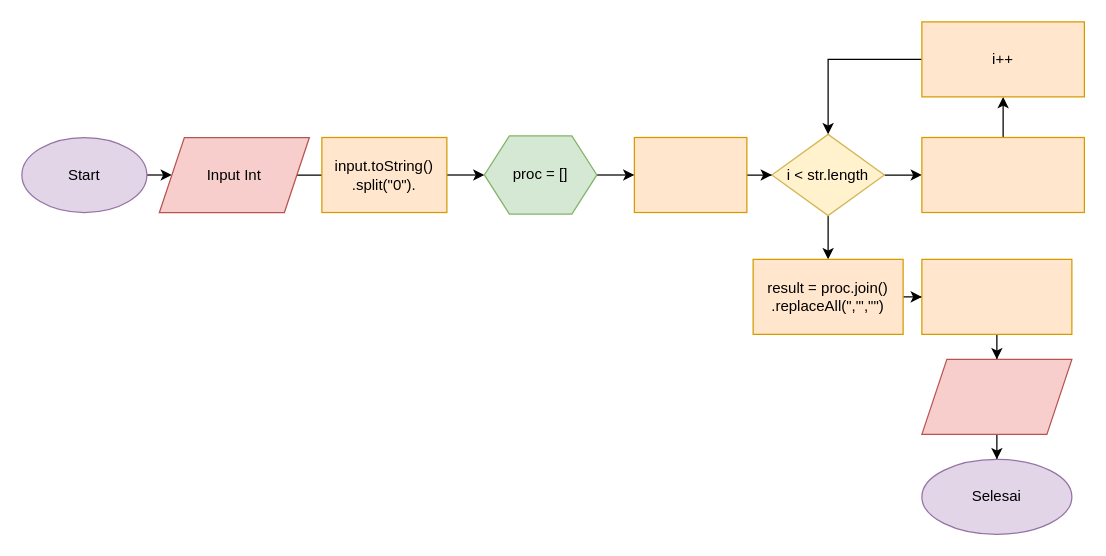
Some shapes in this 1106 by 556 pixel diagram are drawn without their labels. Here are the shapes that lost their labels. From the top down, the centre of each, then its label:
[690,174]: i = 0
[1002,174]: proc.push(str[i].split("") .sort((a,b)=>a-b)
[996,296]: parseInt(result,10)
[996,396]: Output result
